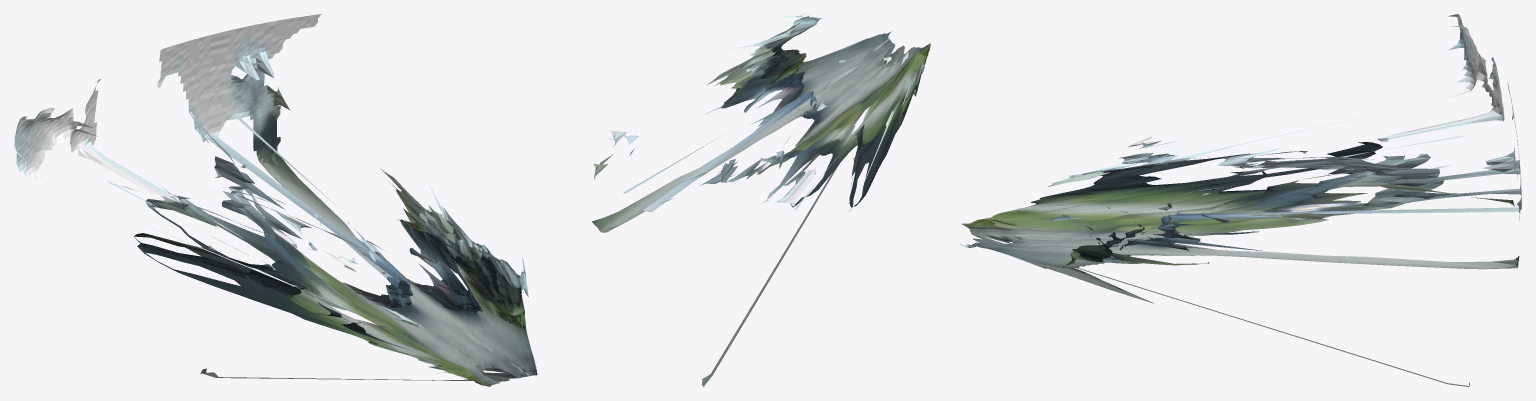
The picture shows the model from 3 angles, left to right: view 1: azimuth 30°, elevation 25°; view 2: azimuth 150°, elevation 25°; view 3: azimuth 270°, elevation 25°; orthographic projection. The views are drawn at different scales.
Visible parts, largest first — view 1: defaultobject; view 2: defaultobject; view 3: defaultobject.
Boxes of the visible parts, box(x1,y1,x2,y2) form: defaultobject: box(14, 14, 537, 386); defaultobject: box(591, 14, 930, 386); defaultobject: box(960, 14, 1521, 386).
Bounding box in the file's own units: 28.76 × 26.26 × 45.39.
Materials: 1 (1 with a texture image).
